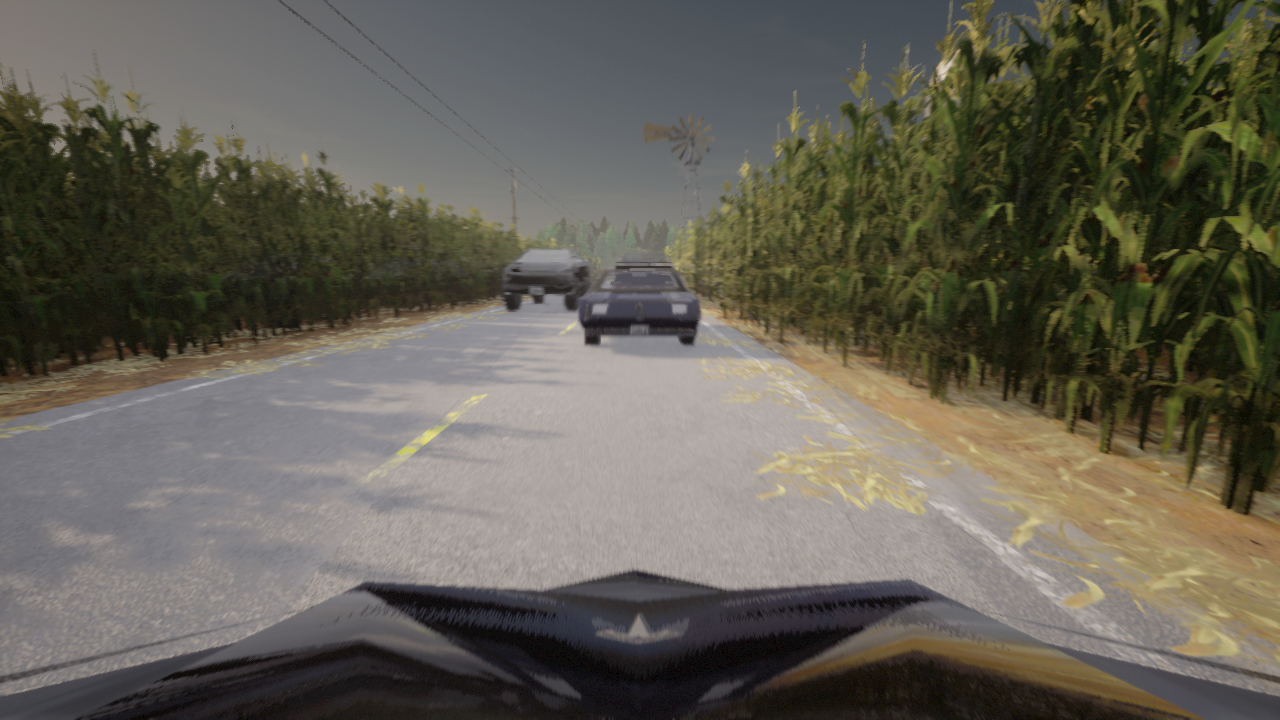cyclist: (0, 569, 1279, 719), (579, 269, 700, 344), (501, 248, 592, 309), (615, 252, 673, 269)
